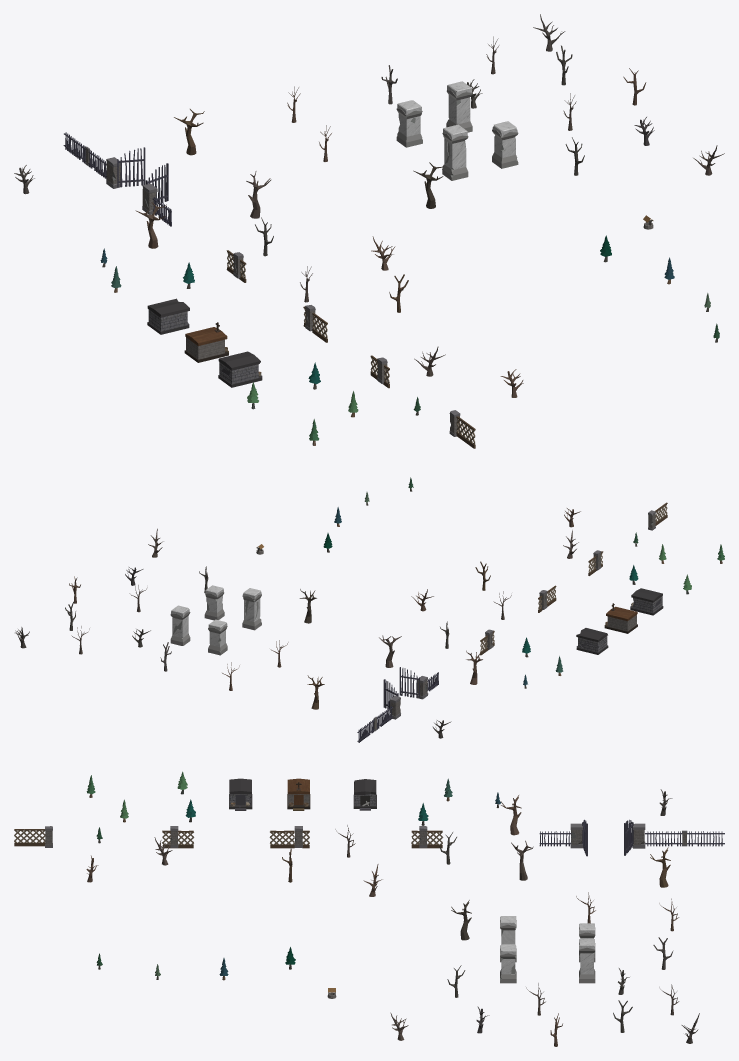
File: Buildings.fbx
The picture shows the model from 3 angles, top to bottom: view 1: azimuth 30°, elevation 25°; view 2: azimuth 150°, elevation 25°; view 3: azimuth 270°, elevation 25°; orthographic projection. The views are drawn at different scales.
Visible parts, largest first — view 1: B1, B8, B6, B7, B4, B2, B3, B5_3, Door2; view 2: B8, B1, B6, B4, B7, B2, B3, B5_3; view 3: B5_3, B6, B8, B4, B7, B3, B5_11, B1, B5_13.
Part boxes in pixels (x1=…): B1: x1=442, y1=124, x2=468, y2=180; B8: x1=184, y1=322, x2=228, y2=362; B6: x1=218, y1=351, x2=262, y2=387; B7: x1=147, y1=298, x2=189, y2=334; B4: x1=446, y1=81, x2=472, y2=132; B2: x1=396, y1=100, x2=422, y2=147; B3: x1=492, y1=121, x2=518, y2=168; B5_3: x1=63, y1=132, x2=106, y2=179; Door2: x1=117, y1=147, x2=145, y2=187; B8: x1=604, y1=603, x2=637, y2=633; B1: x1=242, y1=588, x2=261, y2=630; B6: x1=630, y1=588, x2=663, y2=615; B4: x1=170, y1=605, x2=190, y2=645; B7: x1=576, y1=628, x2=608, y2=654; B2: x1=208, y1=619, x2=227, y2=655; B3: x1=204, y1=585, x2=224, y2=620; B5_3: x1=357, y1=706, x2=393, y2=742; B5_3: x1=645, y1=830, x2=724, y2=846; B6: x1=229, y1=778, x2=252, y2=810; B8: x1=287, y1=778, x2=310, y2=810; B4: x1=579, y1=938, x2=595, y2=983; B7: x1=353, y1=779, x2=376, y2=810; B3: x1=500, y1=944, x2=516, y2=983; B5_11: x1=269, y1=830, x2=309, y2=848; B1: x1=500, y1=916, x2=516, y2=962; B5_13: x1=14, y1=829, x2=45, y2=846.
Size of what is drawn, in the model's own units: 1472 by 110 by 1714.
